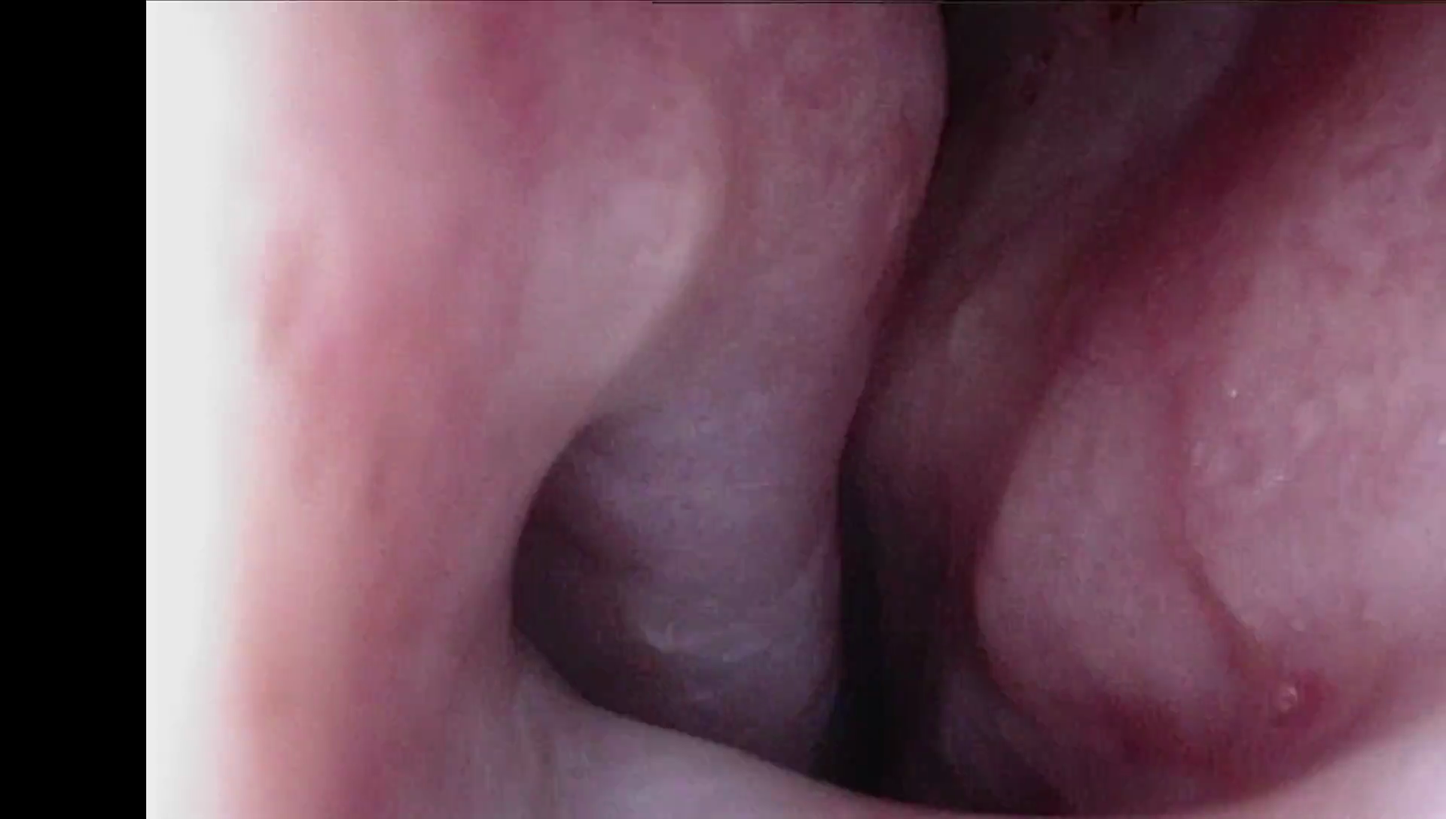close_wall: (157, 2, 576, 819)
next: (792, 425, 968, 819), (499, 394, 681, 720), (929, 0, 1060, 165)
